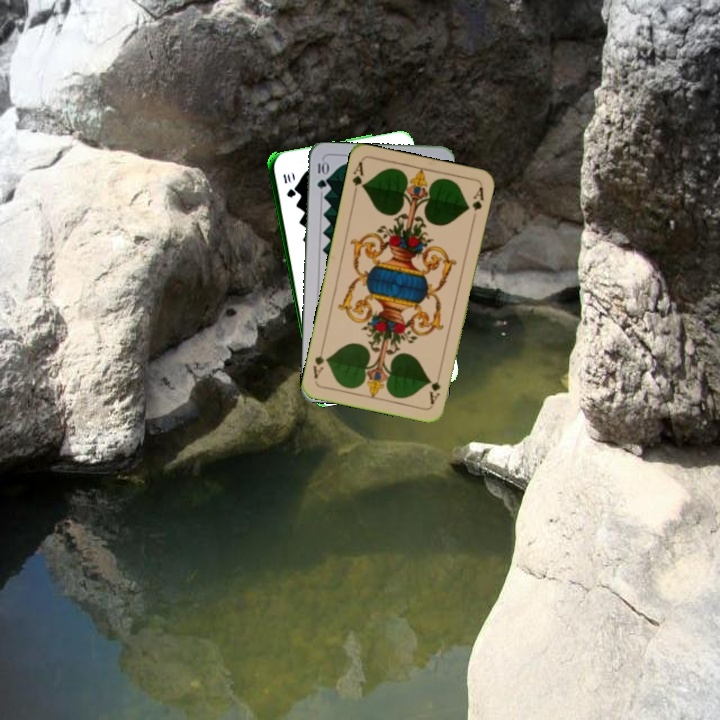G10: (313, 157, 329, 191), (279, 170, 296, 200)
GA: (348, 158, 367, 198), (425, 367, 444, 407)
